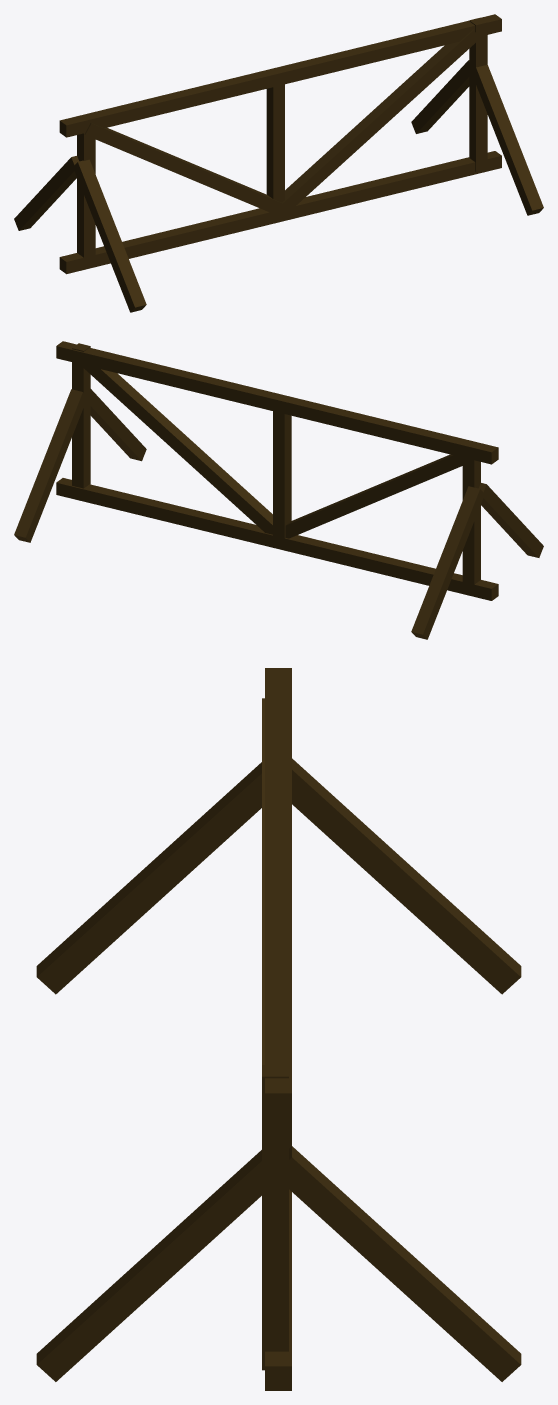
Rendered from krovna konstruikcija.FBX.
3 views of the same model, one above another, from view 1: azimuth 30°, elevation 25°; view 2: azimuth 150°, elevation 25°; view 3: azimuth 270°, elevation 25° (orthographic). The views are drawn at different scales.
Visible parts, largest first — view 1: Box589; view 2: Box589; view 3: Box589.
Boxes of the visible parts, x1,y1,x2,y2 form: Box589: [14, 14, 543, 312]; Box589: [14, 341, 543, 639]; Box589: [36, 668, 521, 1390].
Size of the model in its own units: 373 by 125 by 179.
